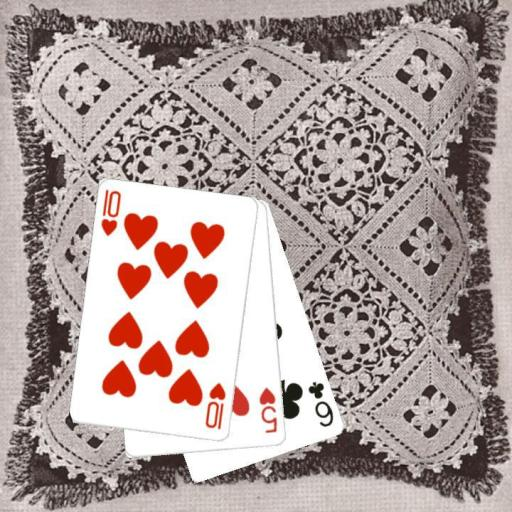10H: (97, 187, 123, 238), (203, 380, 228, 431)
5H: (257, 385, 280, 435)
6C: (305, 378, 336, 429)
